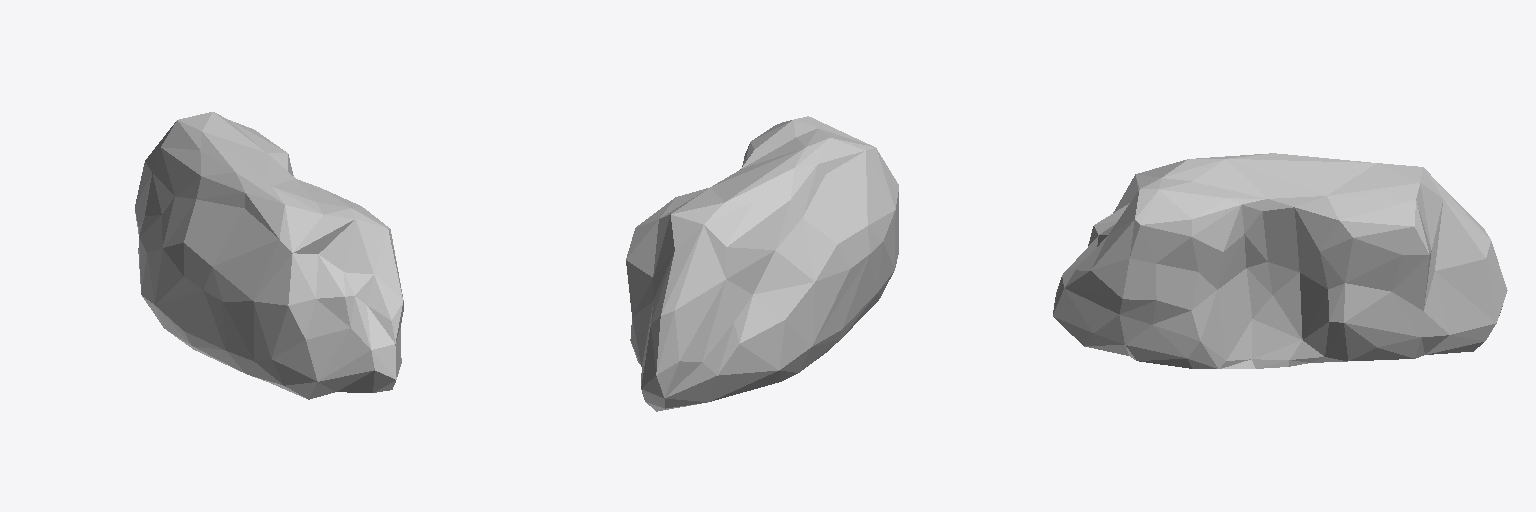
File: Mesa.obj
3 views of the same model, side by side, from view 1: azimuth 30°, elevation 25°; view 2: azimuth 150°, elevation 25°; view 3: azimuth 270°, elevation 25° (orthographic).
Parts seen in each view (by area): view 1: Mesa; view 2: Mesa; view 3: Mesa.
Part boxes in pixels (left/top/right/bottom): Mesa: left=135, top=112, right=403, bottom=399; Mesa: left=626, top=116, right=898, bottom=411; Mesa: left=1053, top=153, right=1507, bottom=368.
Size of the model in its own units: 199 by 225 by 506.